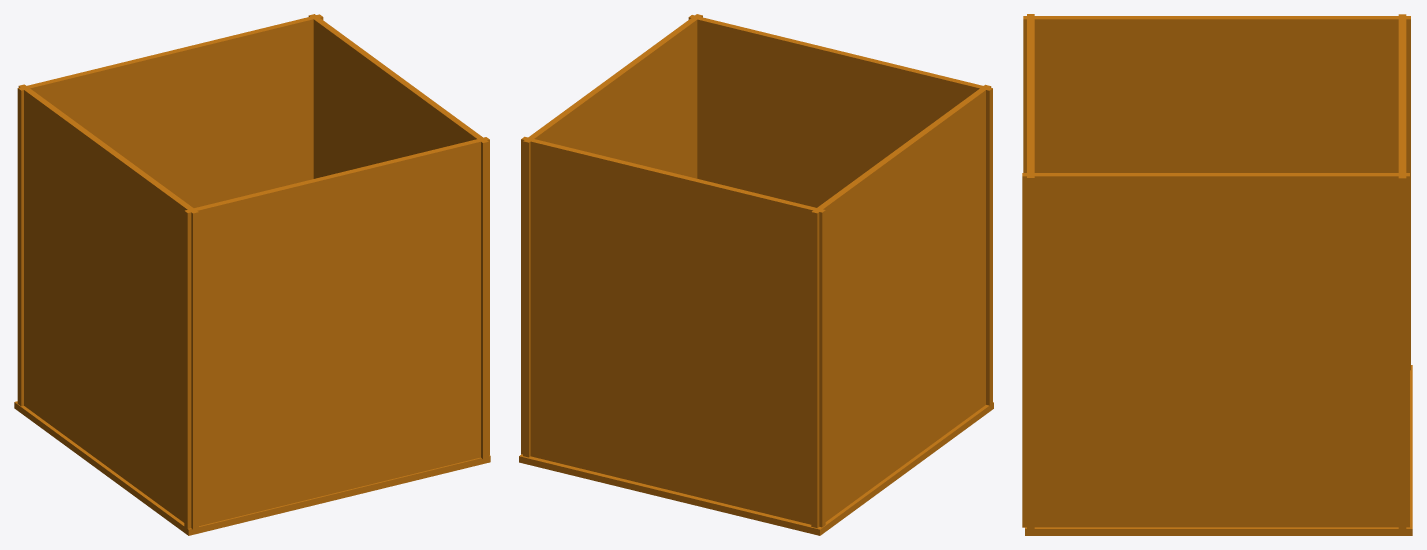
The model's file is Crate1_col.FBX.
3 renders of one model, left to right at view 1: azimuth 30°, elevation 25°; view 2: azimuth 150°, elevation 25°; view 3: azimuth 270°, elevation 25°, orthographic. The views are drawn at different scales.
Parts seen in each view (by area): view 1: Cate1_col; view 2: Cate1_col; view 3: Cate1_col.
Part boxes in pixels (x1=…): Cate1_col: x1=14, y1=14, x2=490, y2=535; Cate1_col: x1=519, y1=14, x2=993, y2=535; Cate1_col: x1=1022, y1=14, x2=1412, y2=535.
Bounding box in the file's own units: 39.45 × 40.12 × 39.63.
